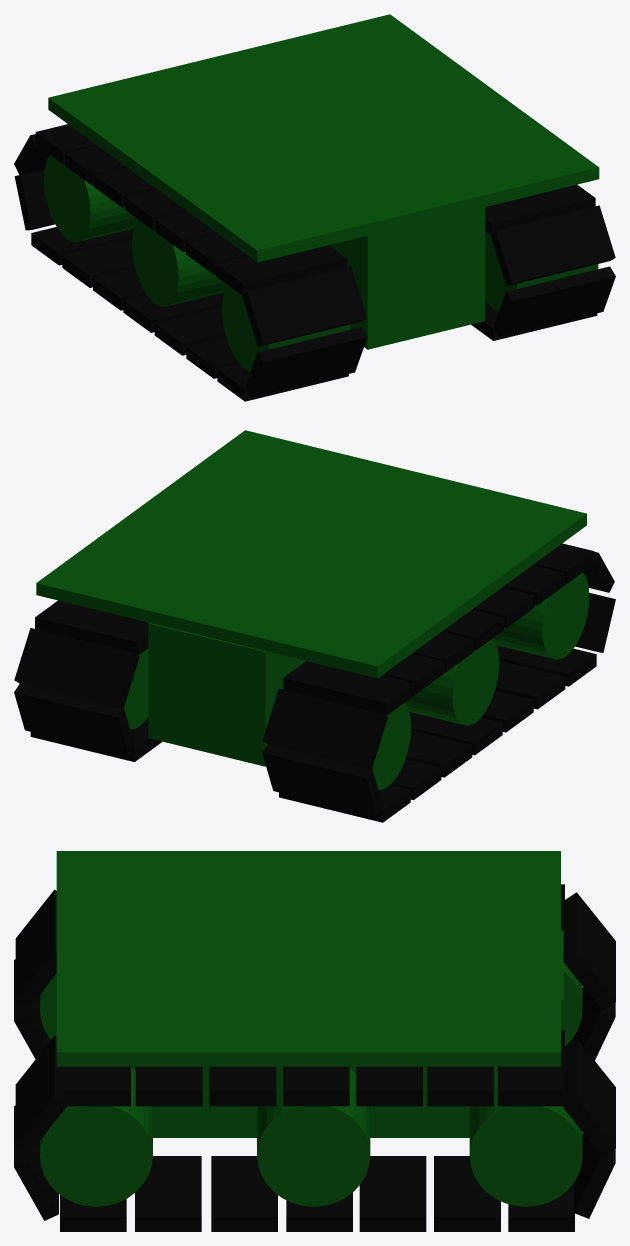
Rendered from tankBodyV3.gltf.
3 renders of one model, top to bottom at view 1: azimuth 30°, elevation 25°; view 2: azimuth 150°, elevation 25°; view 3: azimuth 270°, elevation 25°, orthographic. The views are drawn at different scales.
Parts seen in each view (by area): view 1: Cube.020; view 2: Cube.020; view 3: Cube.020.
Boxes of the visible parts, left/top/right/bottom form: Cube.020: left=14, top=14, right=615, bottom=401; Cube.020: left=14, top=430, right=615, bottom=822; Cube.020: left=14, top=851, right=615, bottom=1231.
Size of the model in its own units: 8.7 by 3.51 by 10.65.
